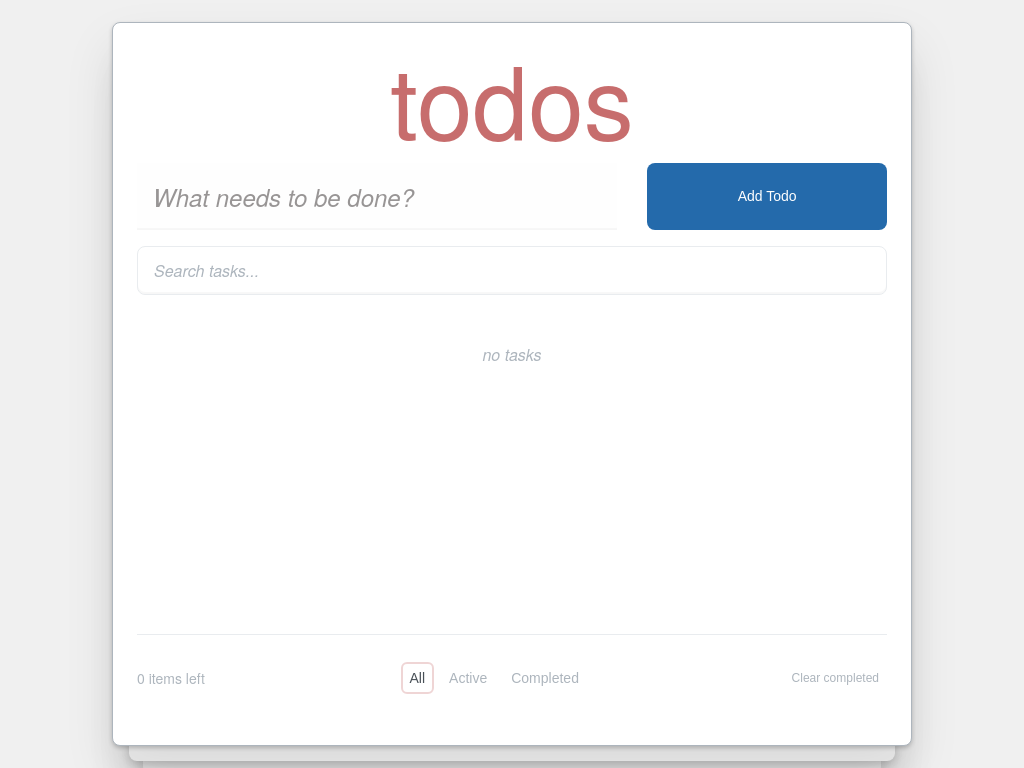
Test case: Todo Workflow Integration › должен добавлять новую задачу и отображать её в списке
In the field with placeholder "What needs to be done?": (377,196) [137, 163, 616, 230], type "Новая задача"
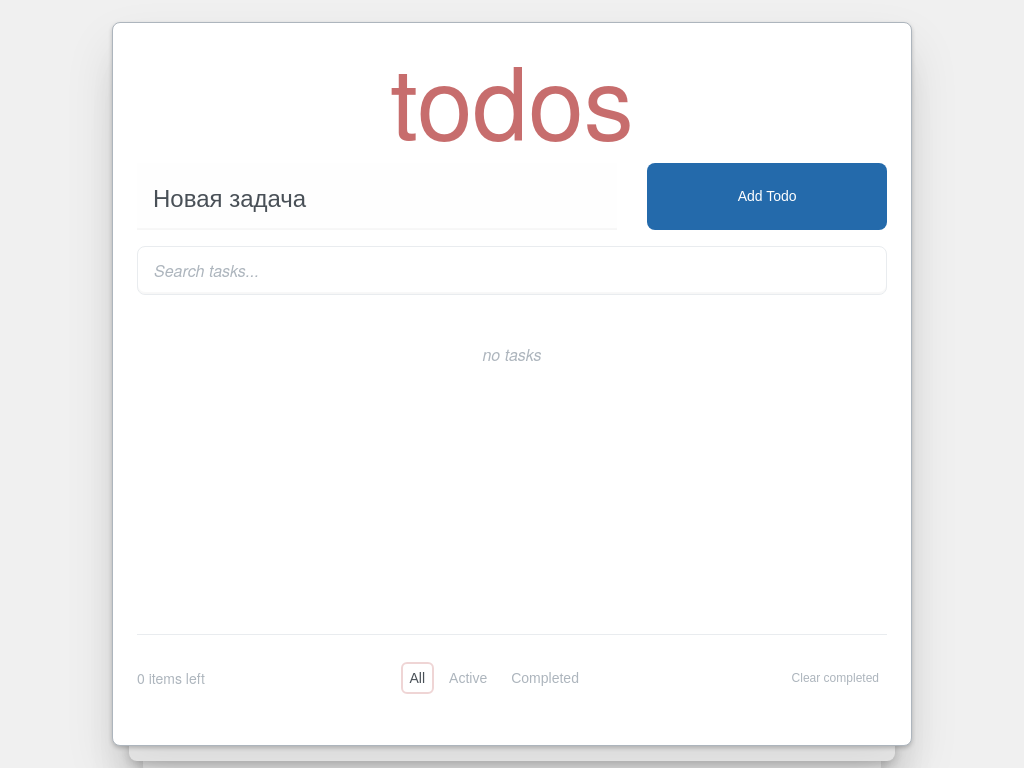
Click the button "Add Todo": (767,196) [647, 163, 887, 230]
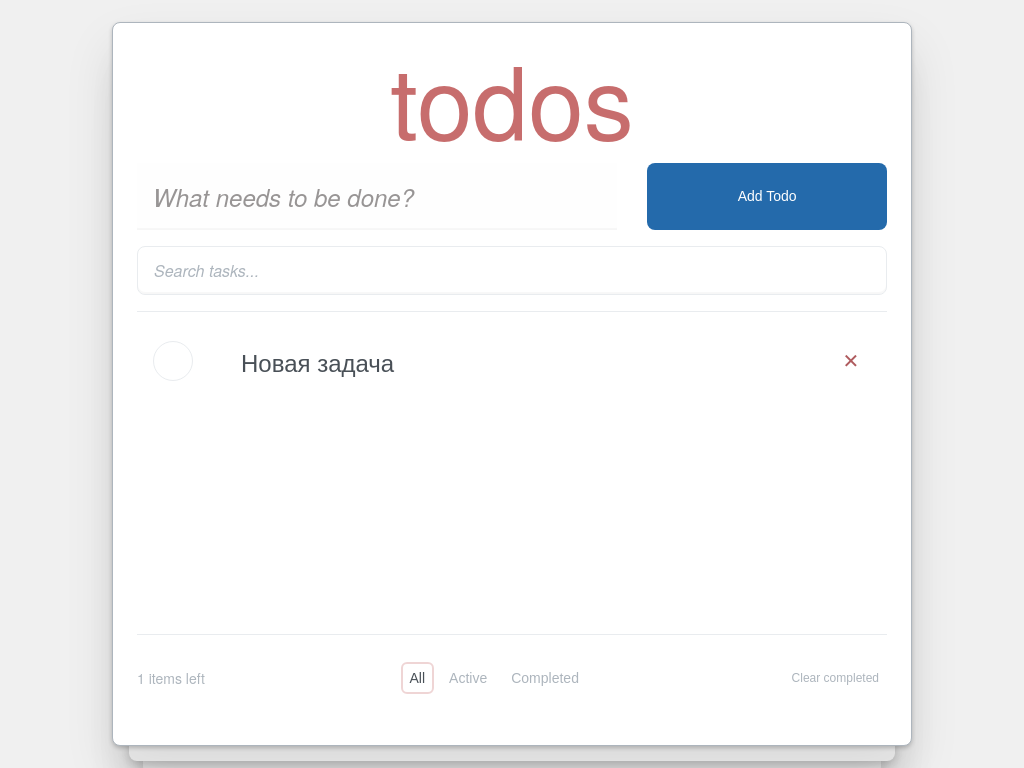
Check: the text "Новая задача" is shown, box [241, 344, 394, 379]
Check: the field with placeholder "What needs to be done?" is empty, box [137, 163, 616, 230]
